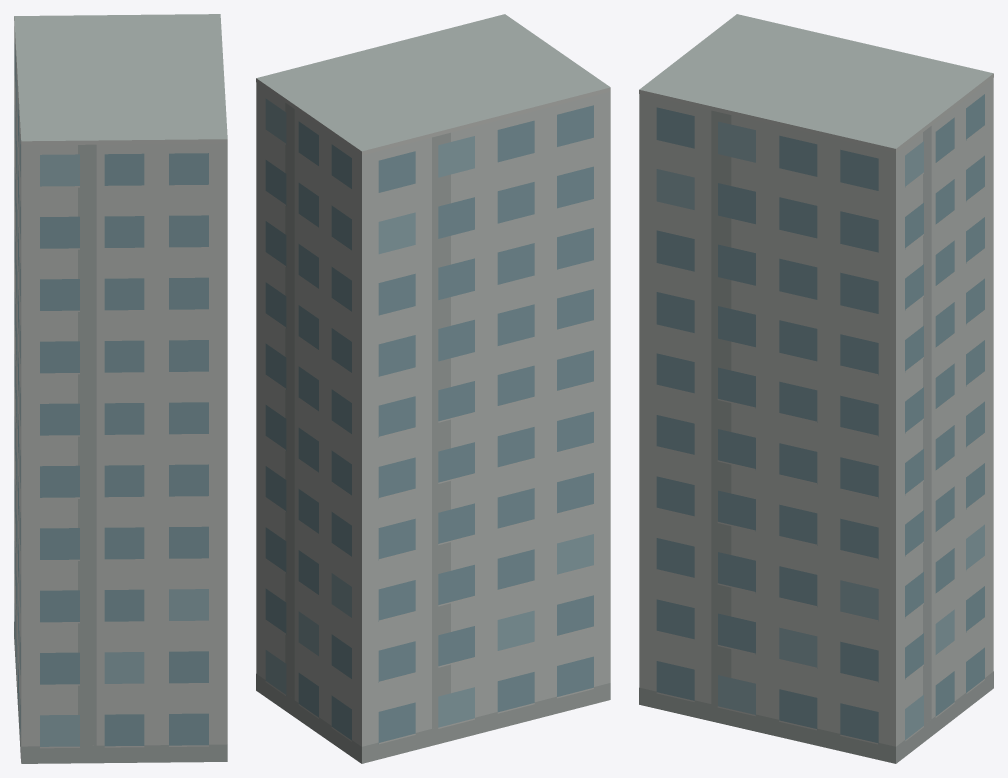
Rendered from residential-3f055290-9c5e-48b6-9077-8310826ebda1.glb.
The picture shows the model from 3 angles, left to right: view 1: azimuth 30°, elevation 25°; view 2: azimuth 150°, elevation 25°; view 3: azimuth 270°, elevation 25°; orthographic projection.
Visible parts, largest first — view 1: residential-3f055290-9c5e-48b6-9077-8310826ebda1.tmp; view 2: residential-3f055290-9c5e-48b6-9077-8310826ebda1.tmp; view 3: residential-3f055290-9c5e-48b6-9077-8310826ebda1.tmp.
Part boxes in pixels (x1=…): residential-3f055290-9c5e-48b6-9077-8310826ebda1.tmp: x1=14, y1=14, x2=227, y2=763; residential-3f055290-9c5e-48b6-9077-8310826ebda1.tmp: x1=256, y1=14, x2=610, y2=763; residential-3f055290-9c5e-48b6-9077-8310826ebda1.tmp: x1=639, y1=14, x2=993, y2=763.
Size of the model in its own units: 16.94 by 36 by 18.82.
